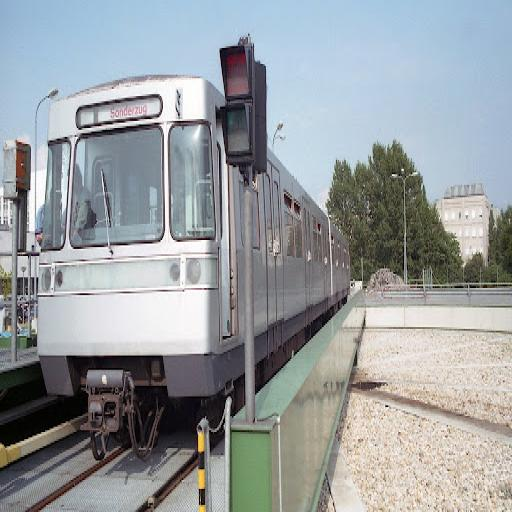Silberpfeil: (43, 77, 352, 407)
